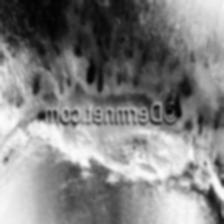Unclassified: (182, 143, 224, 187), (0, 121, 26, 161), (80, 69, 106, 95)
